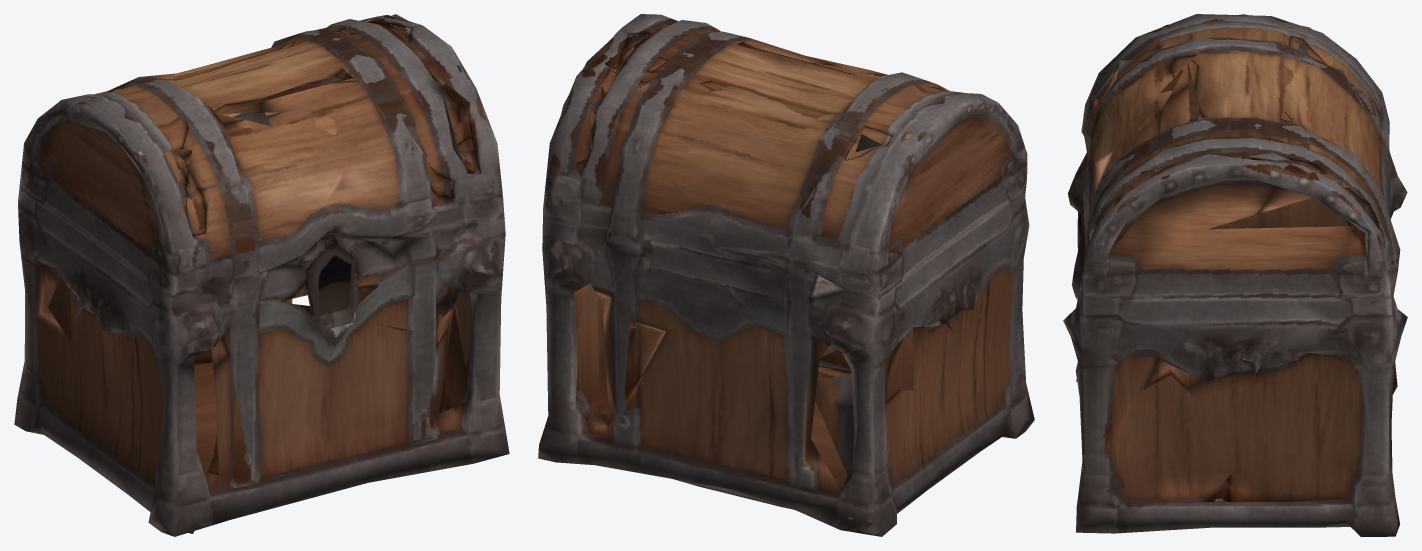
Rendered from chest.glb.
The picture shows the model from 3 angles, left to right: view 1: azimuth 30°, elevation 25°; view 2: azimuth 150°, elevation 25°; view 3: azimuth 270°, elevation 25°; orthographic projection.
Visible parts, largest first — view 1: geometry_0; view 2: geometry_0; view 3: geometry_0.
Part boxes in pixels (x1,y1,x2,y2): geometry_0: (14, 14, 509, 536); geometry_0: (538, 14, 1034, 536); geometry_0: (1063, 14, 1407, 536).
Size of the model in its own units: 0.9006 by 0.9303 by 0.7717.
Materials: 1 (1 with a texture image).
